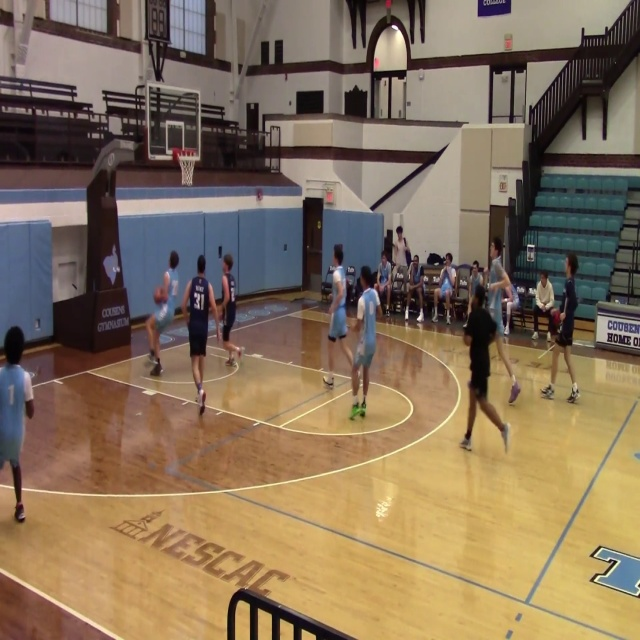Basketball: (153, 286, 168, 304), (551, 310, 561, 325)
